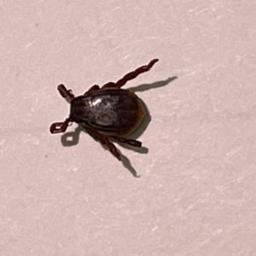Rhipicephalus sanguineus: (49, 58, 162, 161)
